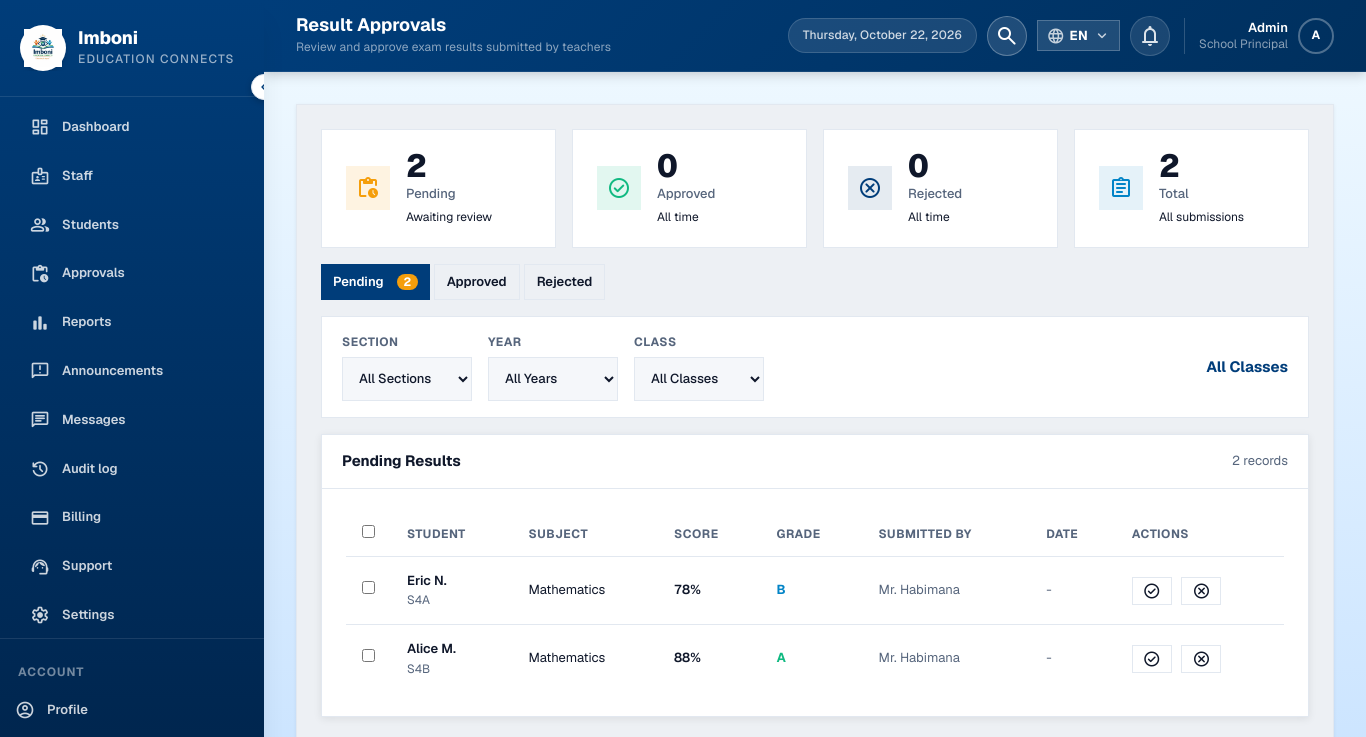
Test: AdminApprovals › requires a reason before rejecting a result
This screenshot has width=1366, height=737.
Expected: the text "Eric N." is shown, [407,572,447,588]
Click the button titled "Reject" in the row of "Eric N.": (1201, 590) [1181,576,1221,604]
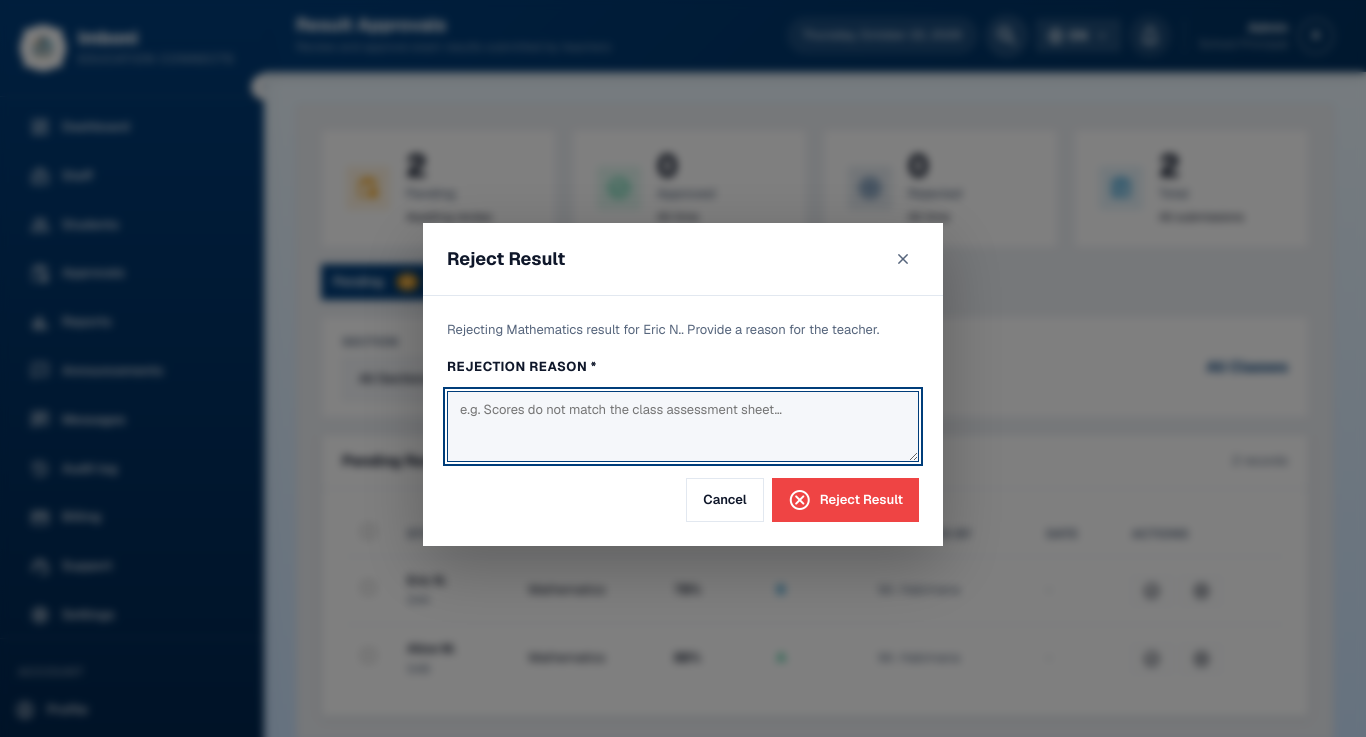
Expected: the heading "Reject Result" is shown, [447,248,565,269]
Click the button "Reject Result": (845, 499) [772,477,919,521]
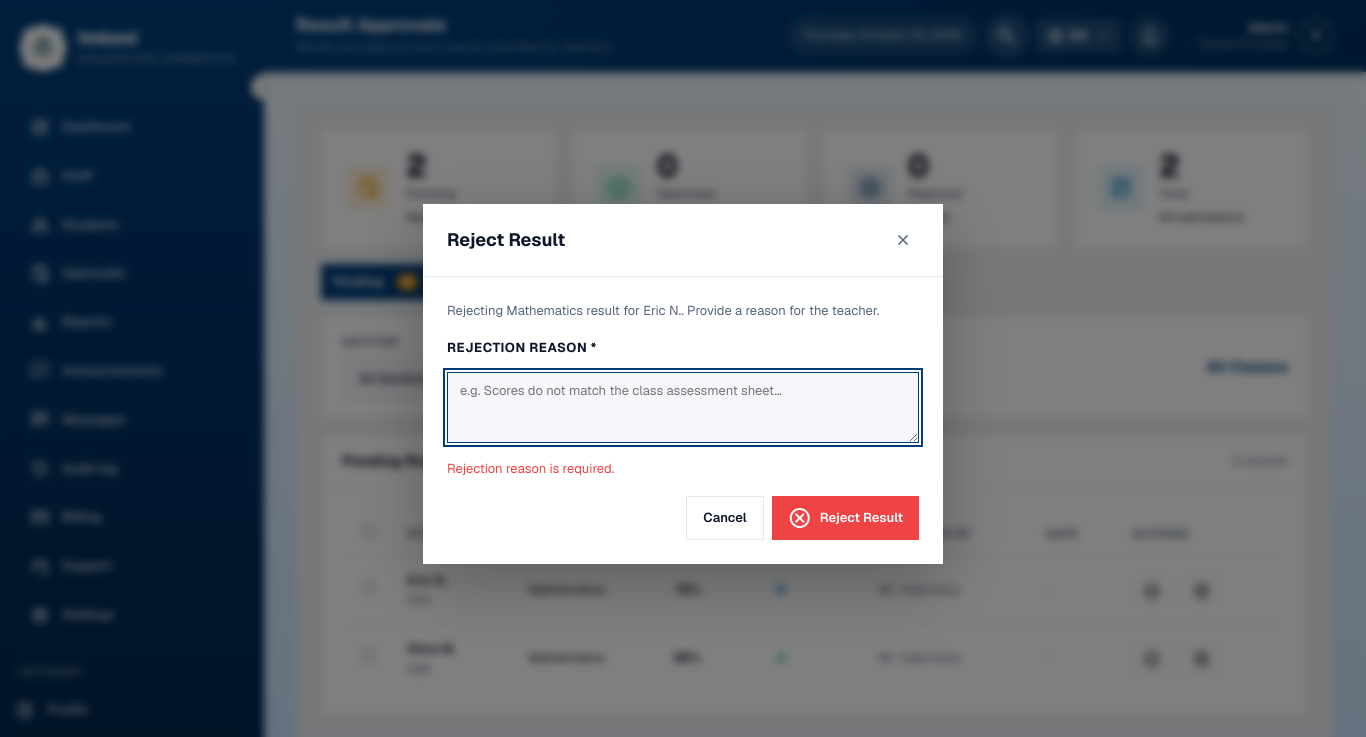
Expected: the text "Rejection reason is required." is shown, [447,460,614,477]
